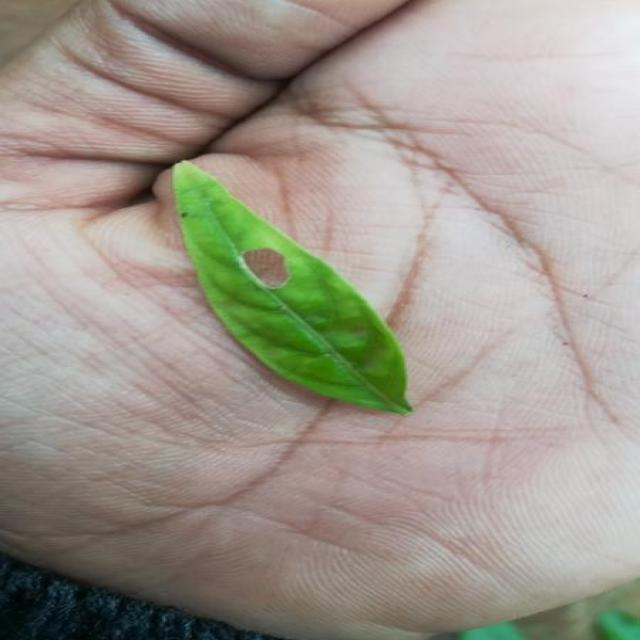Nelavembu: (173, 161, 412, 413)
